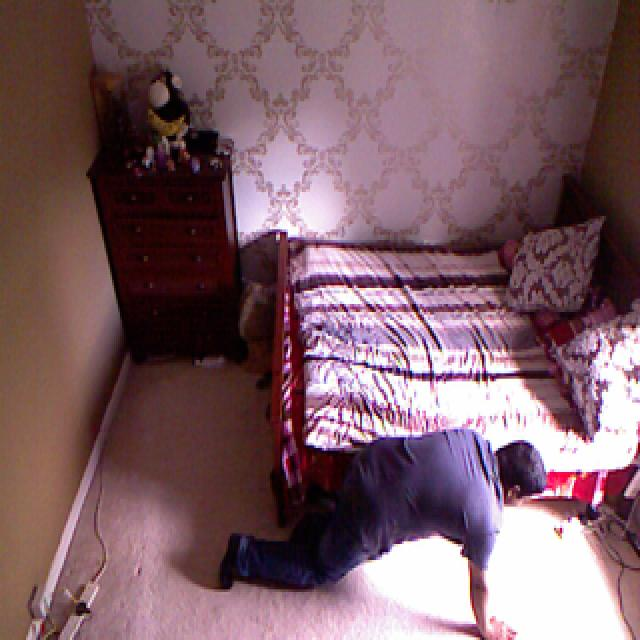crawling: (212, 424, 546, 640)
